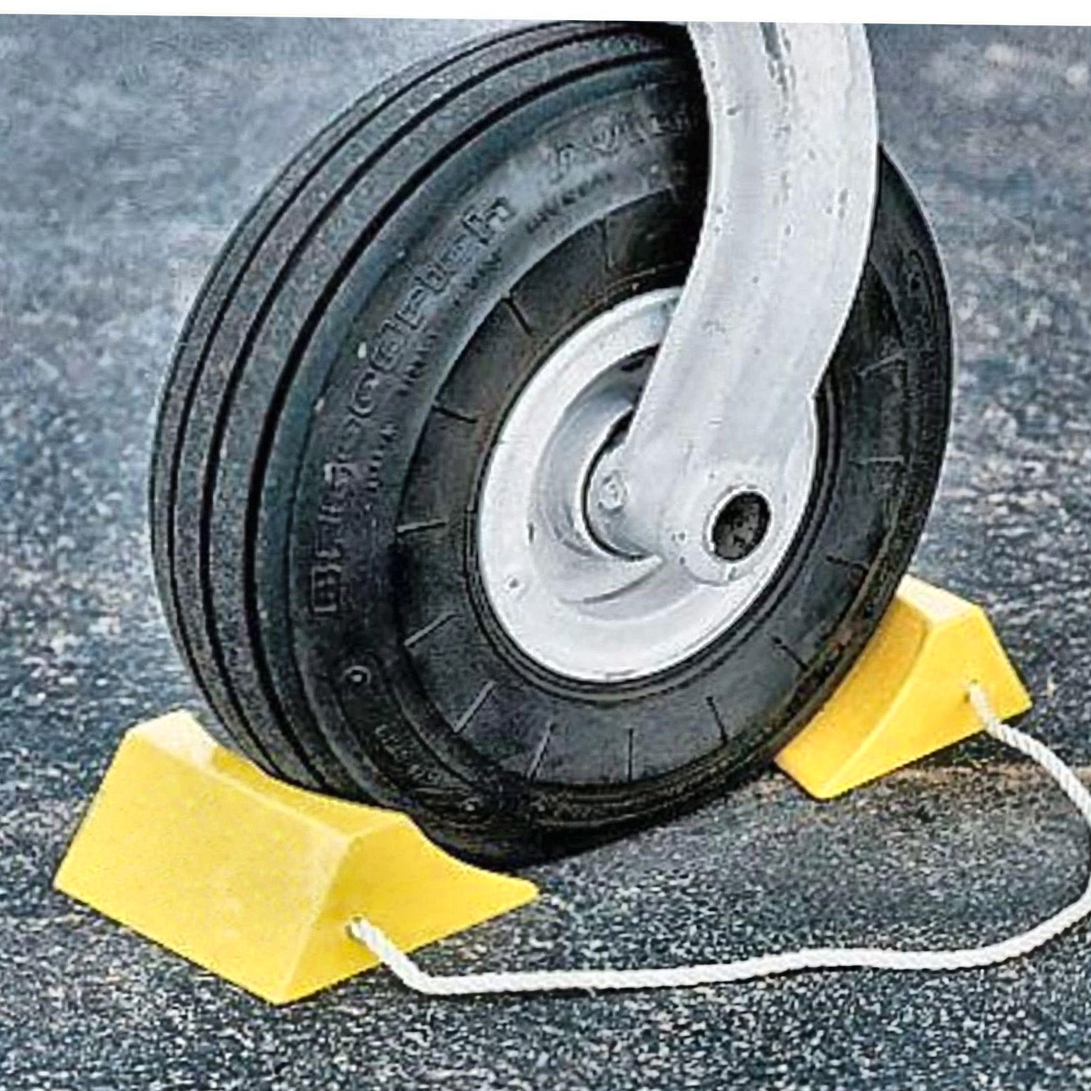chock: (48, 703, 541, 1014), (691, 556, 1045, 805)
wheel: (145, 16, 978, 888)
